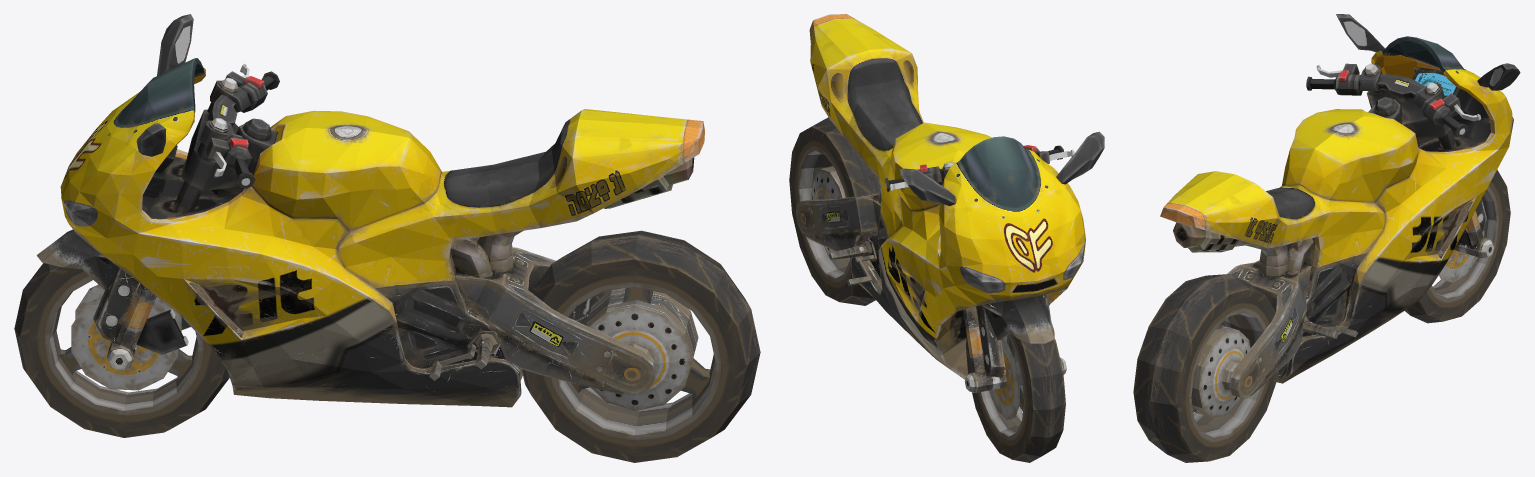
File: P_Moto.obj
3 renders of one model, left to right at view 1: azimuth 30°, elevation 25°; view 2: azimuth 150°, elevation 25°; view 3: azimuth 270°, elevation 25°, orthographic. The views are drawn at different scales.
Size of the model in its own units: 2.02 by 1.34 by 1.58.
Materials: 6 (6 with a texture image).
